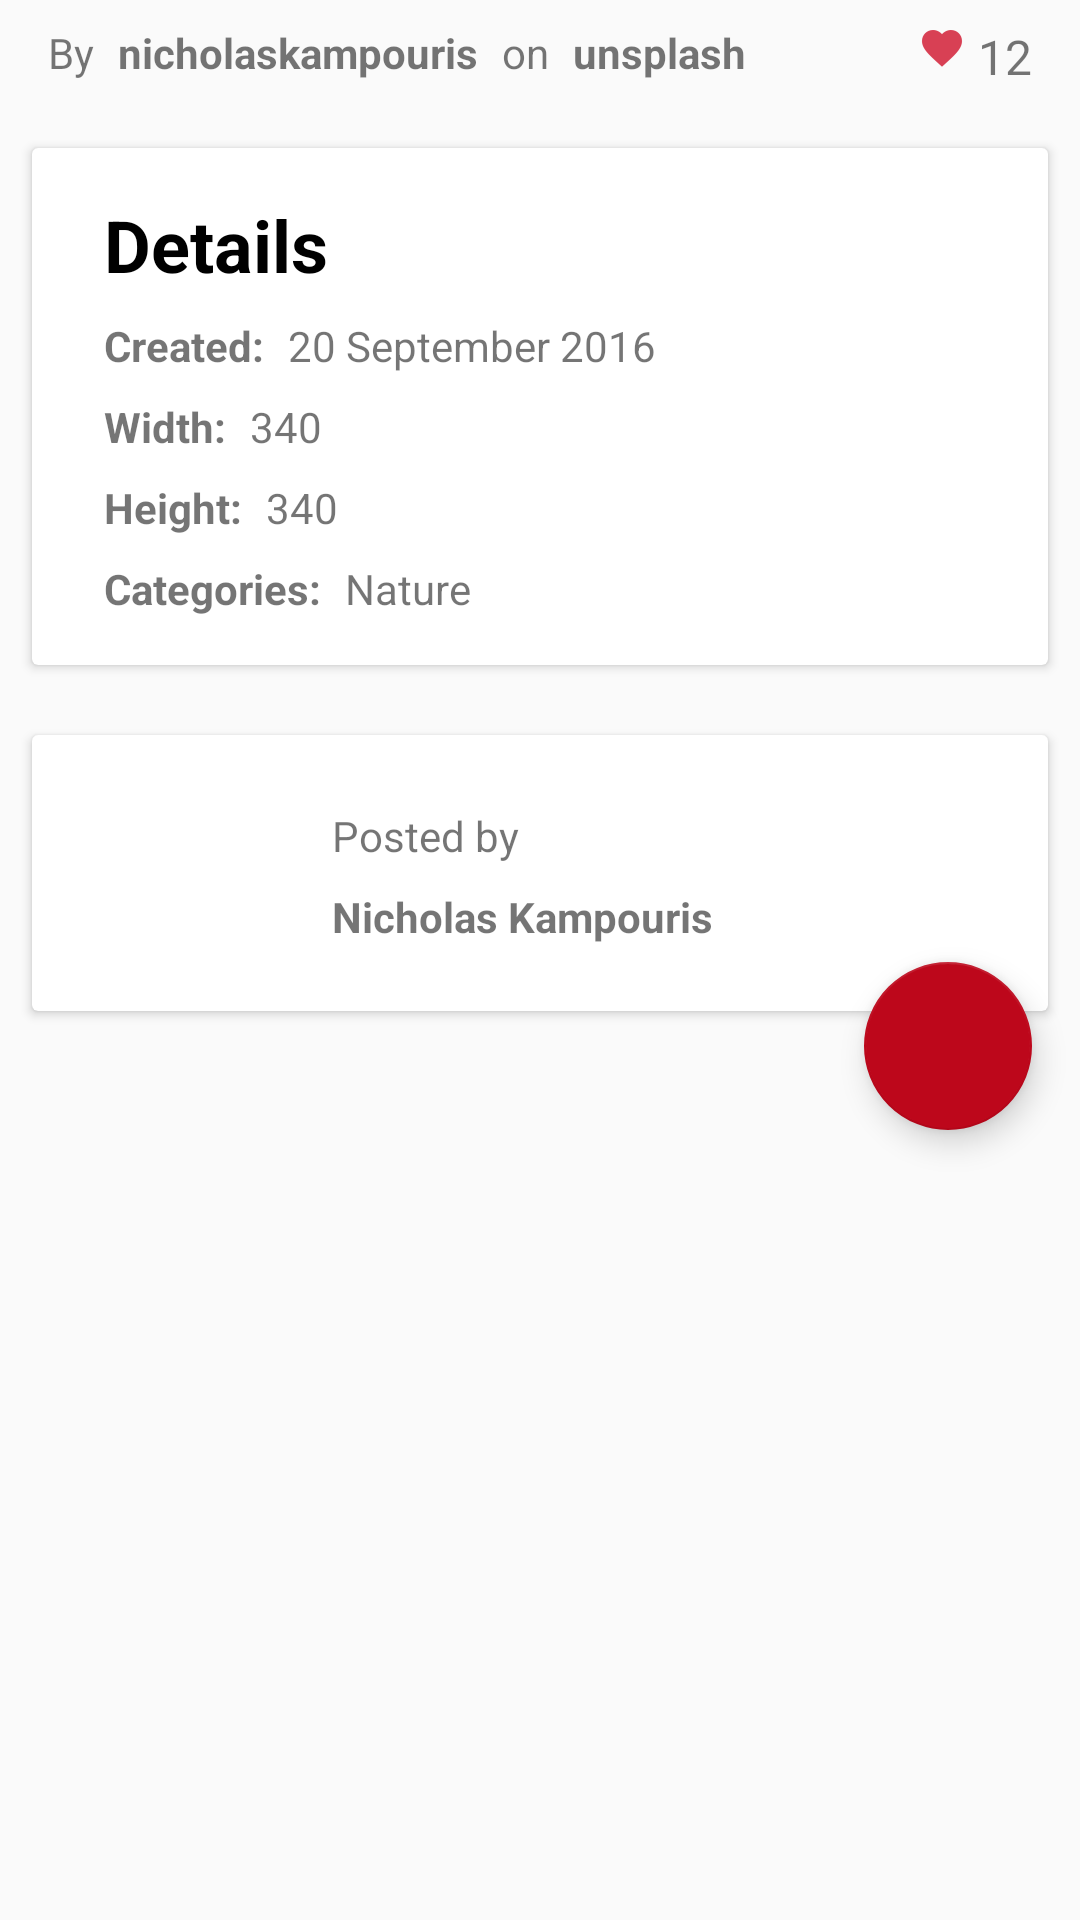

Named icons in this screenshot (1080 × 1920) and their centers, (x=x, y=y):
Number of likes: (x=942, y=48)
